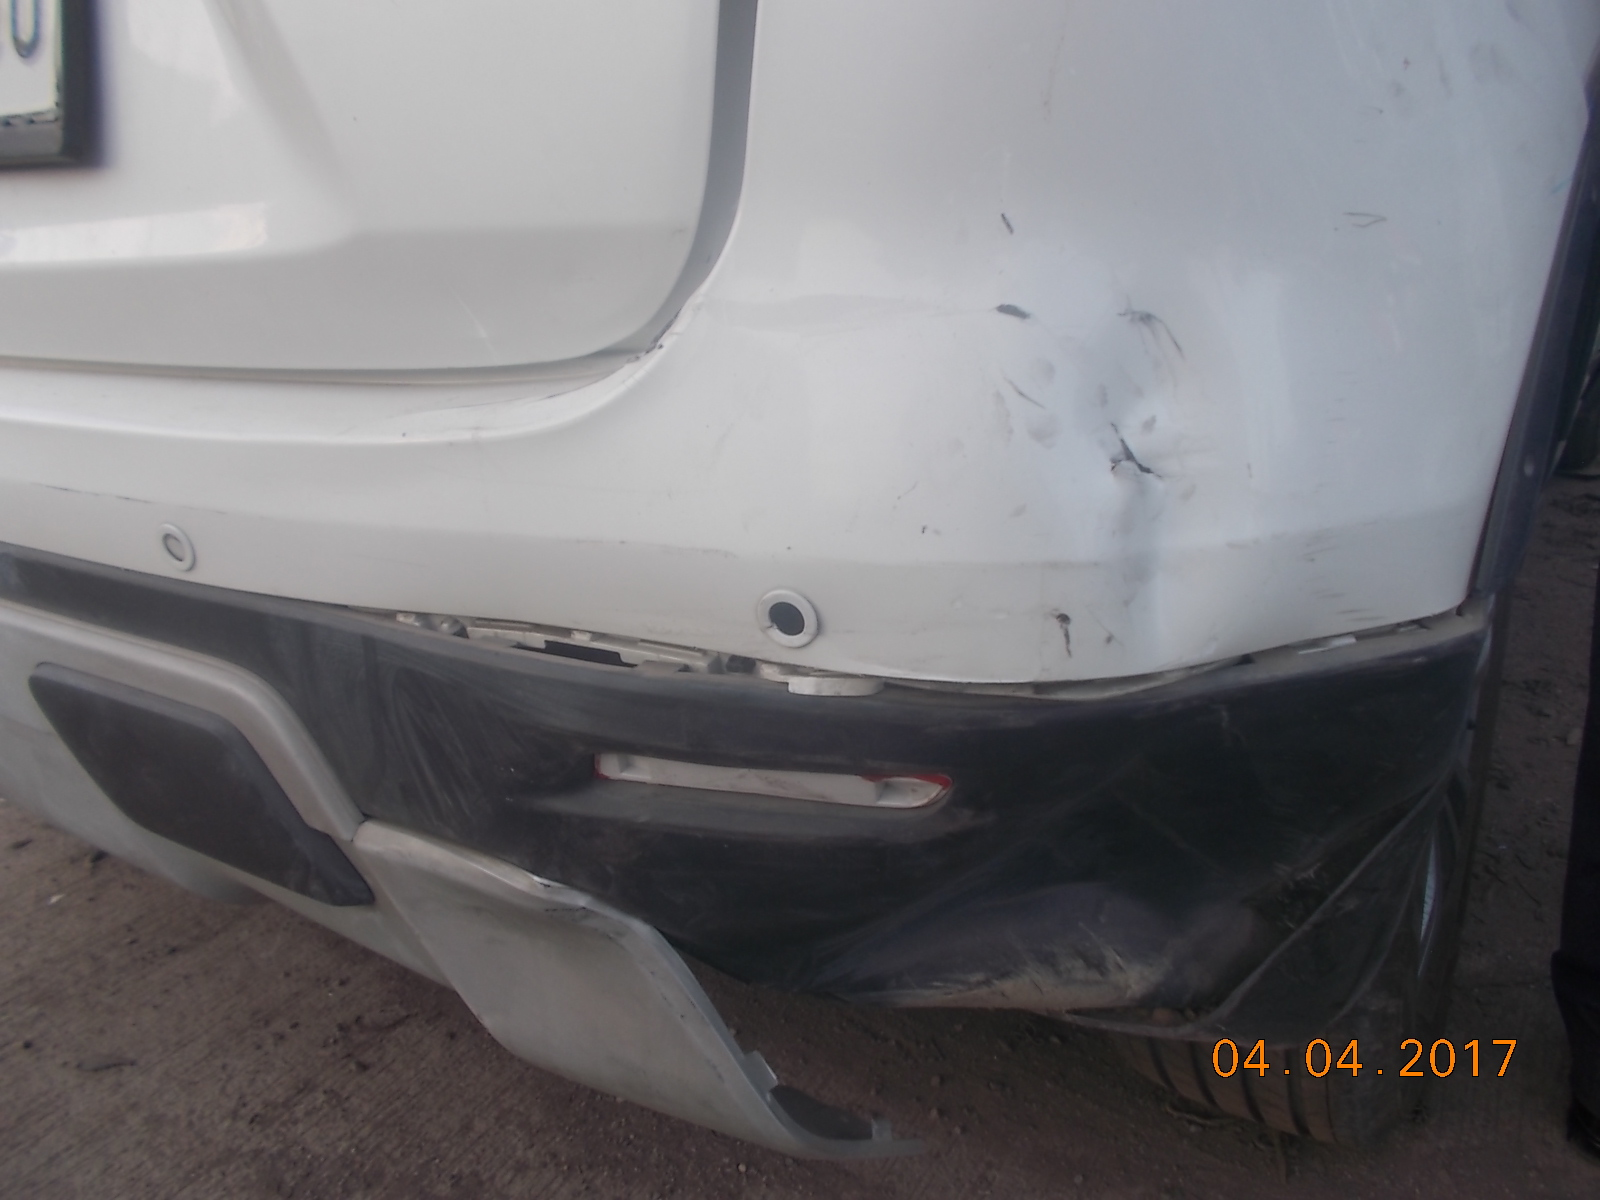Dent: (981, 764, 1293, 1003)
